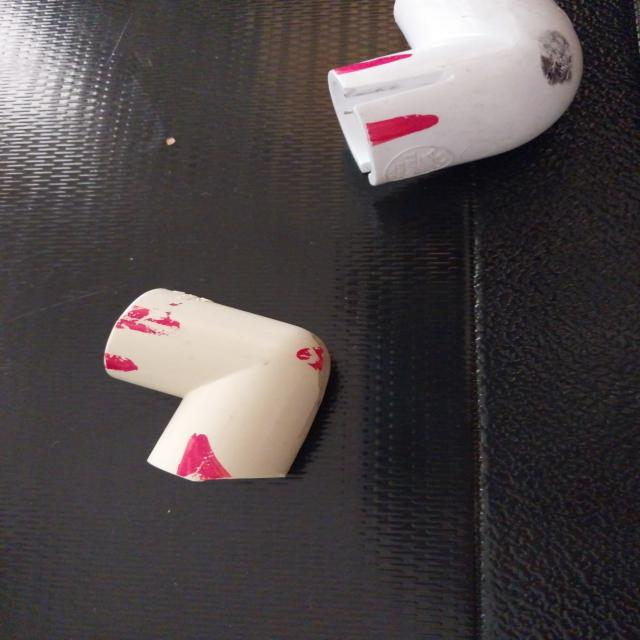Defective: (360, 99, 445, 147), (180, 419, 222, 488), (124, 300, 189, 343), (98, 347, 154, 384), (542, 38, 575, 89), (285, 346, 341, 376), (335, 58, 421, 77)
L Joint: (327, 0, 584, 189), (103, 289, 334, 484)
